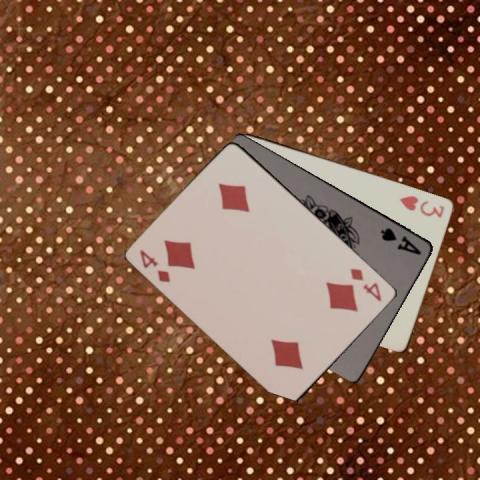3h: (397, 192, 446, 219)
4d: (348, 265, 384, 303), (137, 246, 172, 284)
As: (377, 224, 424, 257)
